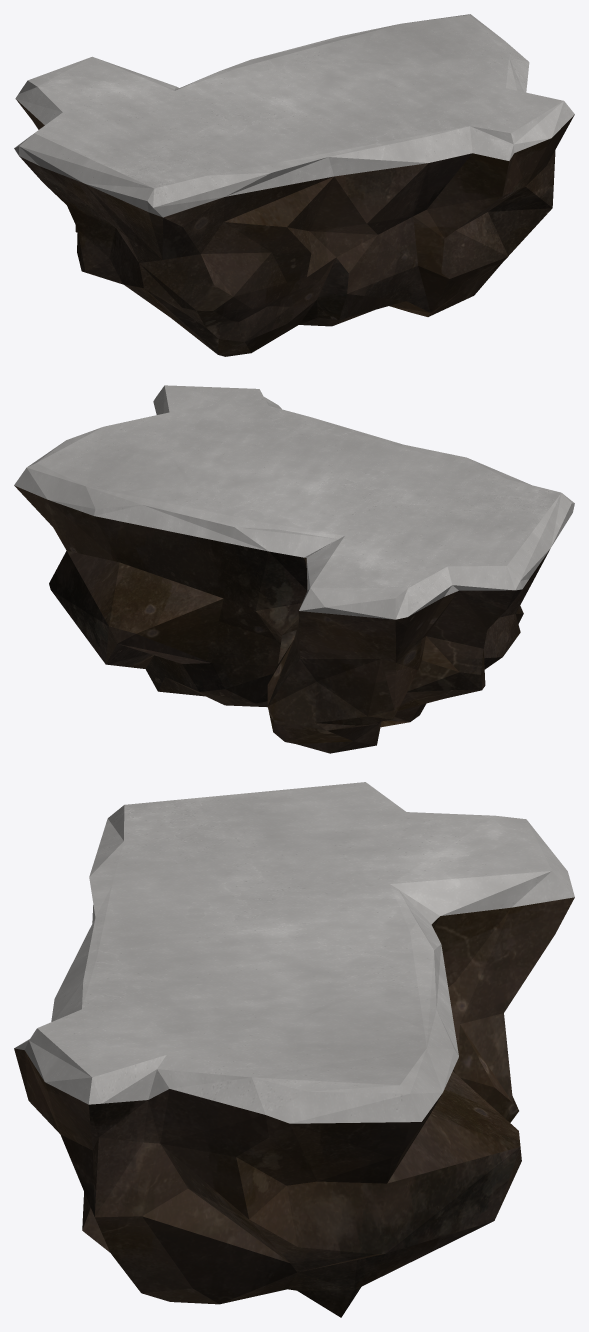
File: maya_level_03.fbx
The picture shows the model from 3 angles, top to bottom: view 1: azimuth 30°, elevation 25°; view 2: azimuth 150°, elevation 25°; view 3: azimuth 270°, elevation 25°; orthographic projection. The views are drawn at different scales.
Parts seen in each view (by area): view 1: maya_level_03; view 2: maya_level_03; view 3: maya_level_03.
Boxes of the visible parts, bbox=[...] form: maya_level_03: bbox=[14, 14, 574, 356]; maya_level_03: bbox=[14, 385, 574, 753]; maya_level_03: bbox=[14, 782, 574, 1317].
Size of the model in its own units: 4189 by 1794 by 3052.
